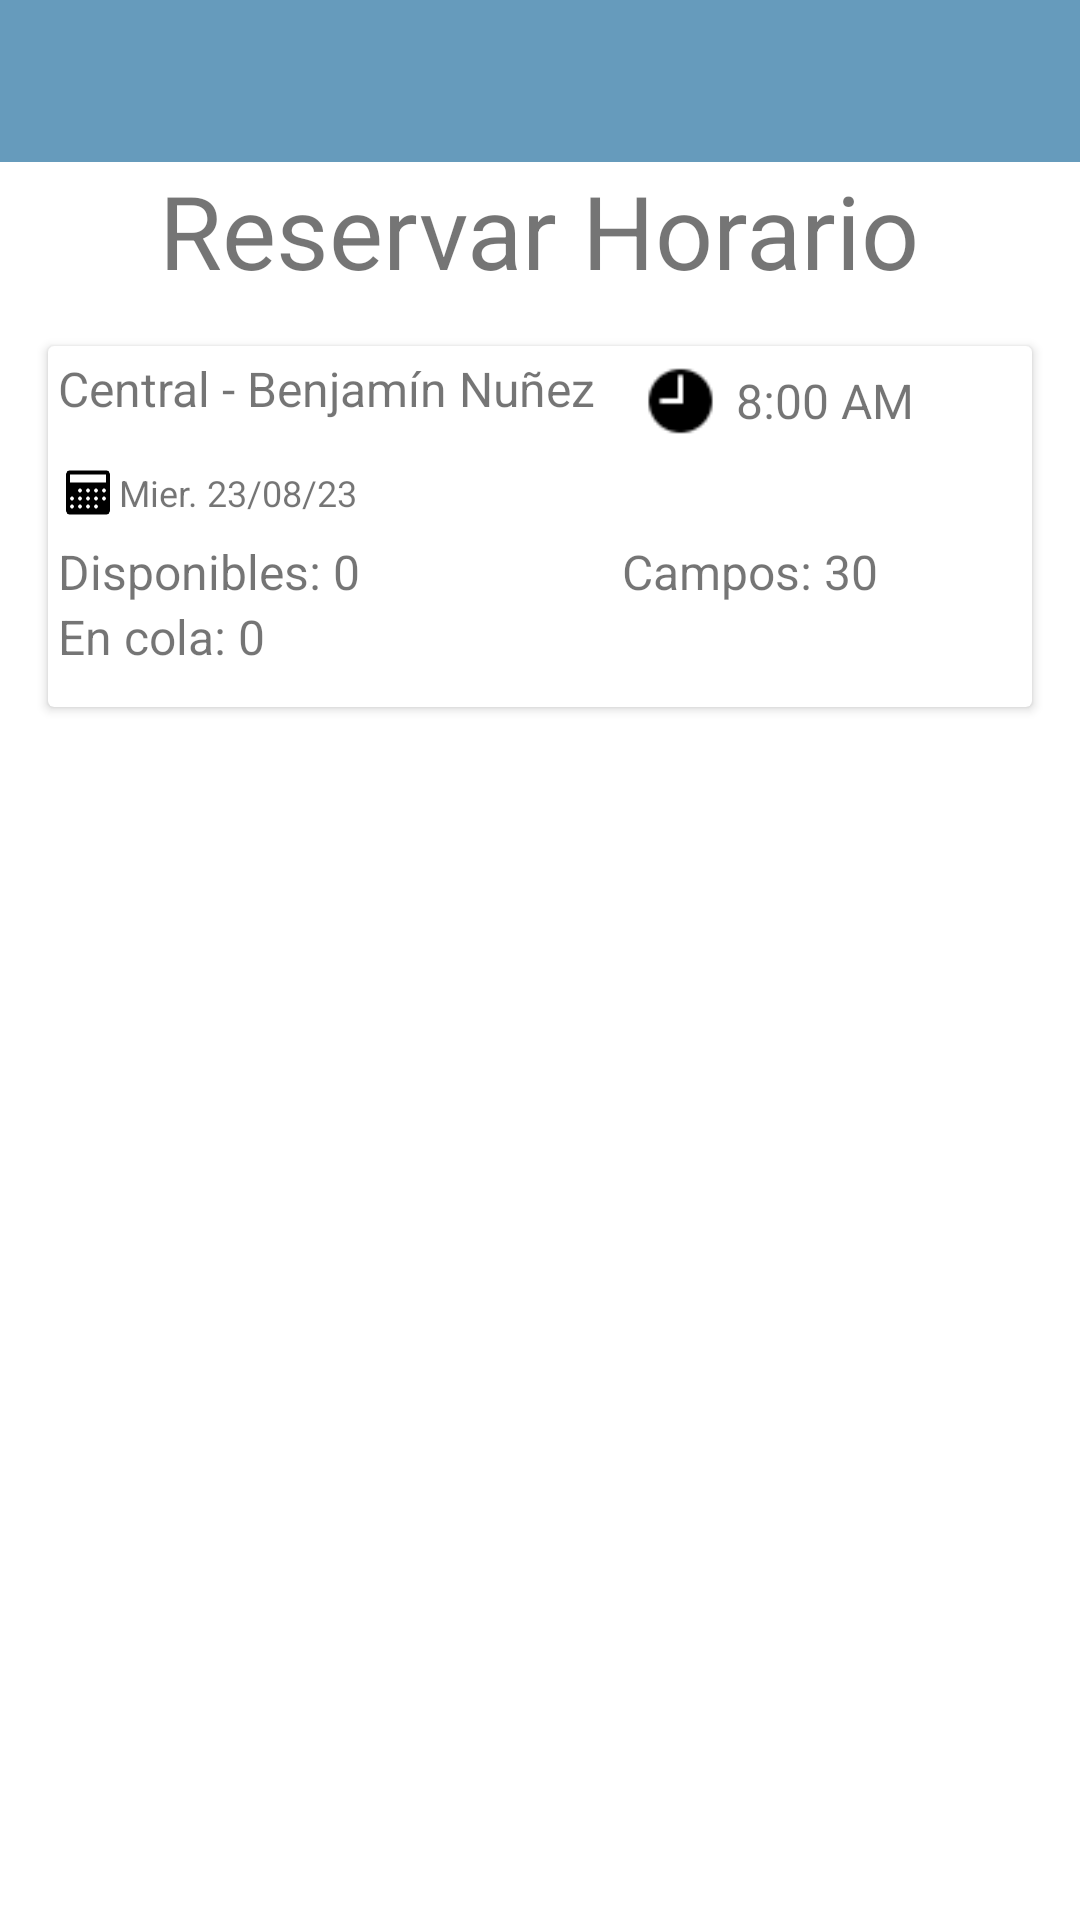

Icons on this 1080w x 1920h Android screen, each with the point to tap as (x,y):
calendar: (88,492)
clock: (680,401)
